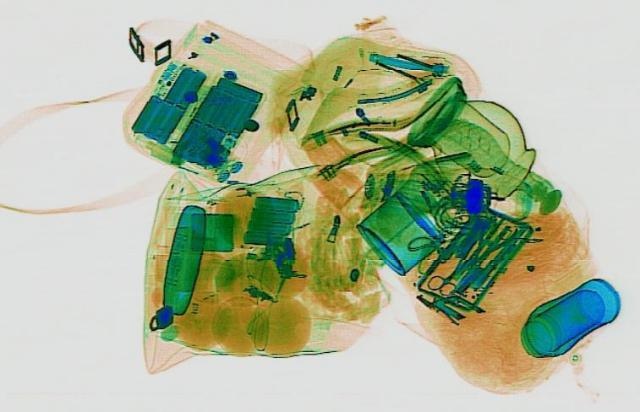Pliers: (446, 217, 520, 274)
Scissors: (421, 253, 479, 294)
